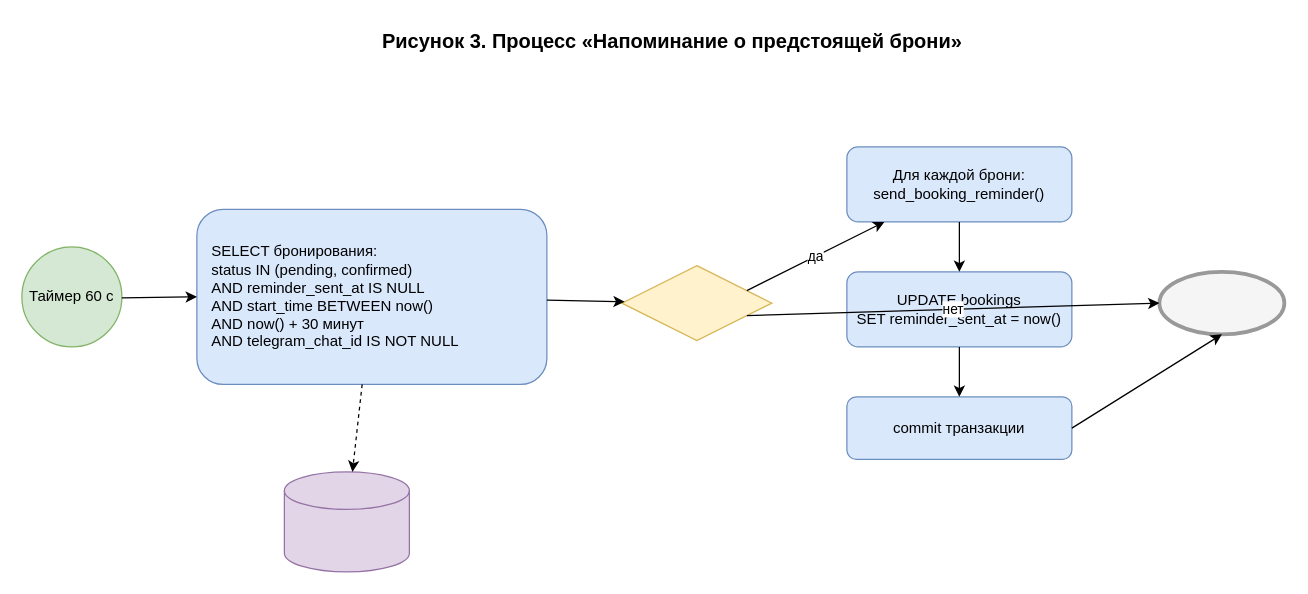
The diagram is 1308 pixels wide and 594 high, and some of its shapes have lost their labels. Each missing label, with the centre of its shape:
"bookings" goes at [346,521].
"Есть найденные?" goes at [696,302].
"Ждать следующий тик" goes at [1221,302].
